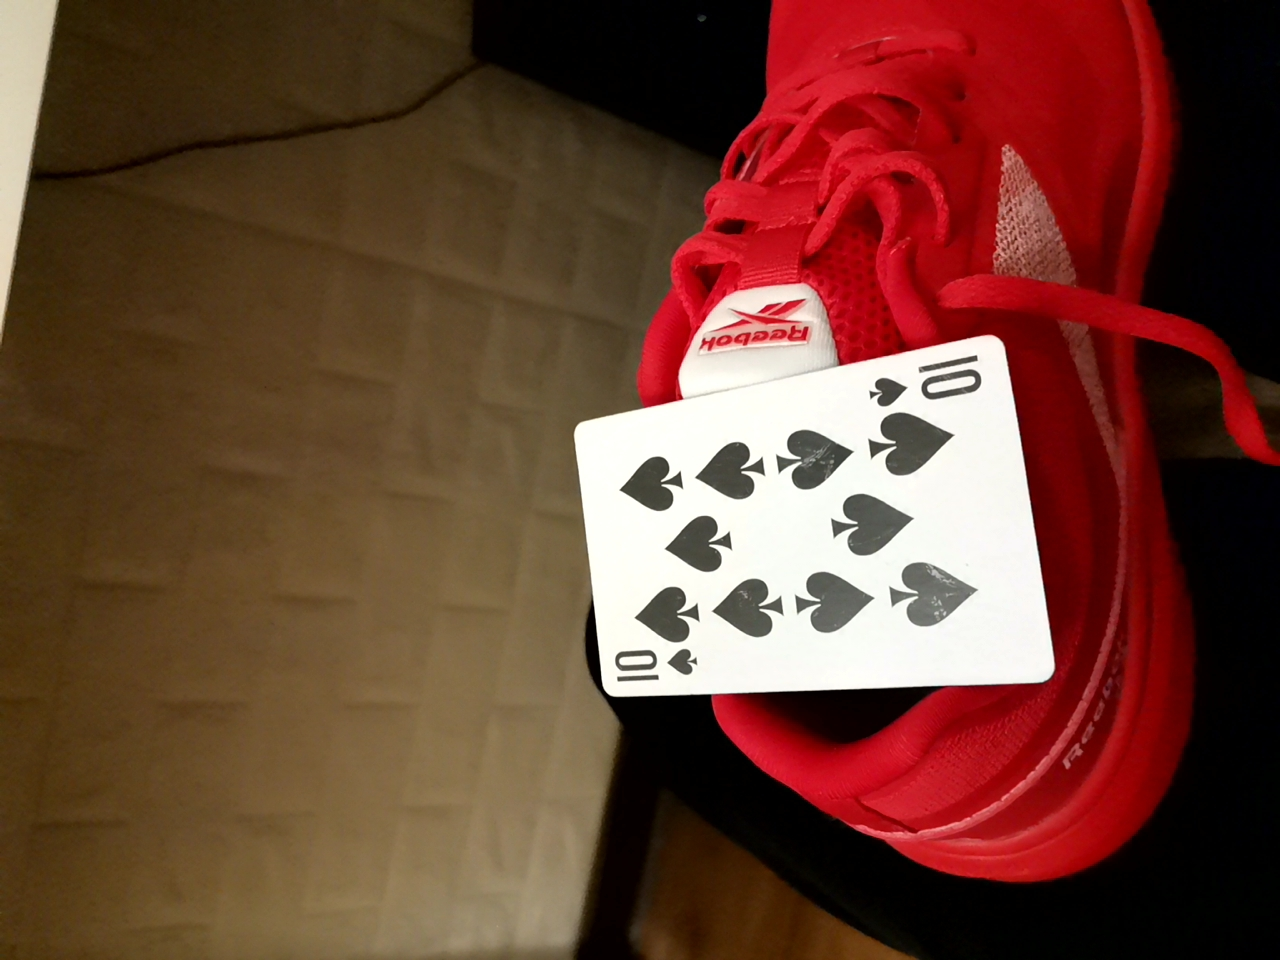ht 10: (546, 317, 1049, 703)
